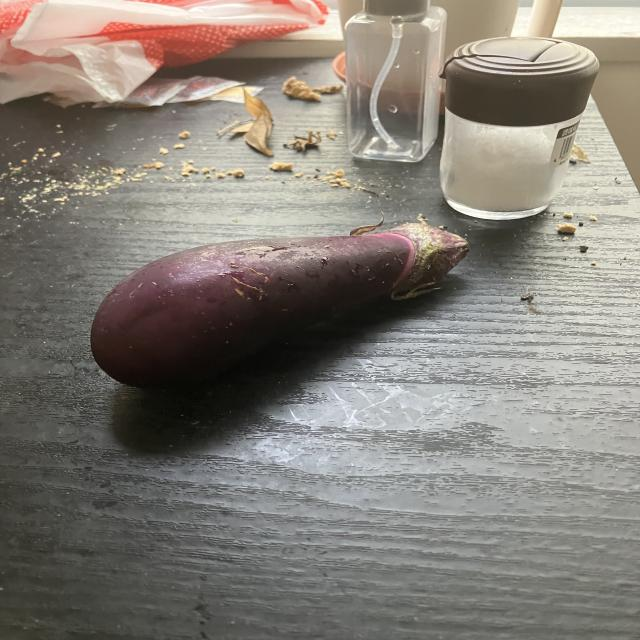eggplant: (87, 214, 471, 394)
